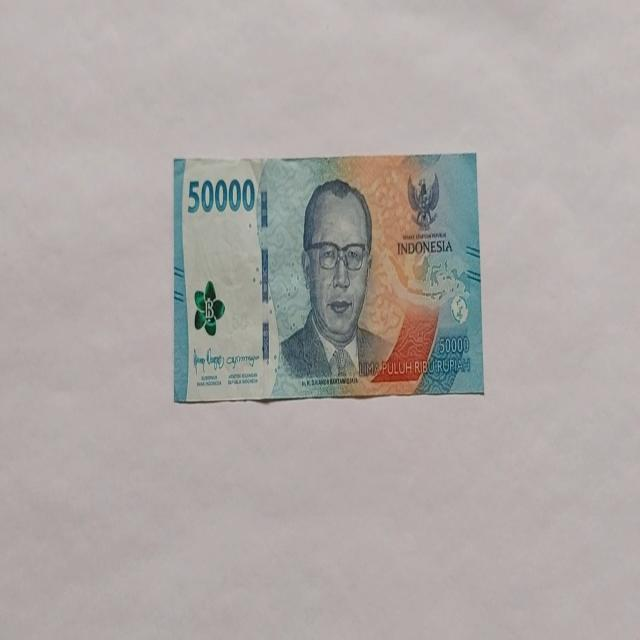lima puluh ribu rupiah: (172, 152, 484, 404), (274, 177, 394, 390)
